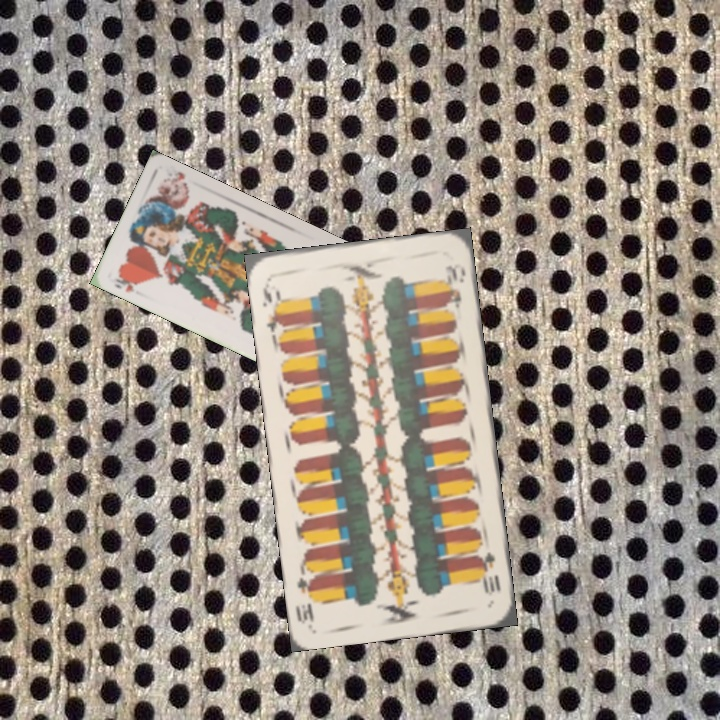E10: (258, 279, 286, 336), (474, 548, 503, 599)
HO: (108, 271, 143, 295)
